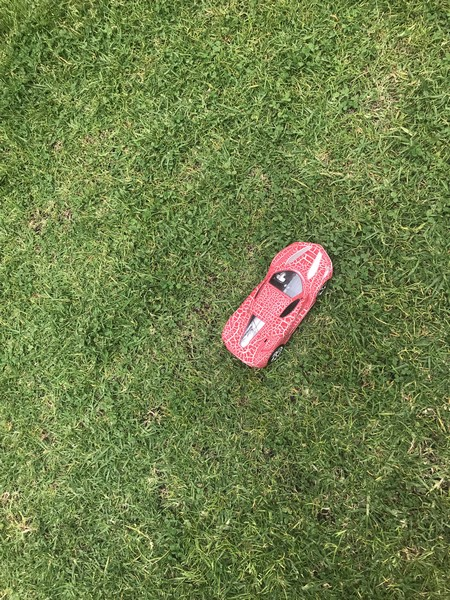RC: (220, 241, 335, 372)
